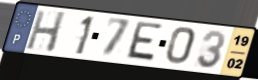0: (163, 26, 198, 66)
1: (75, 14, 96, 55)
3: (196, 29, 228, 70)
7: (103, 16, 131, 59)
E: (123, 20, 165, 64)
H: (24, 9, 68, 54)
